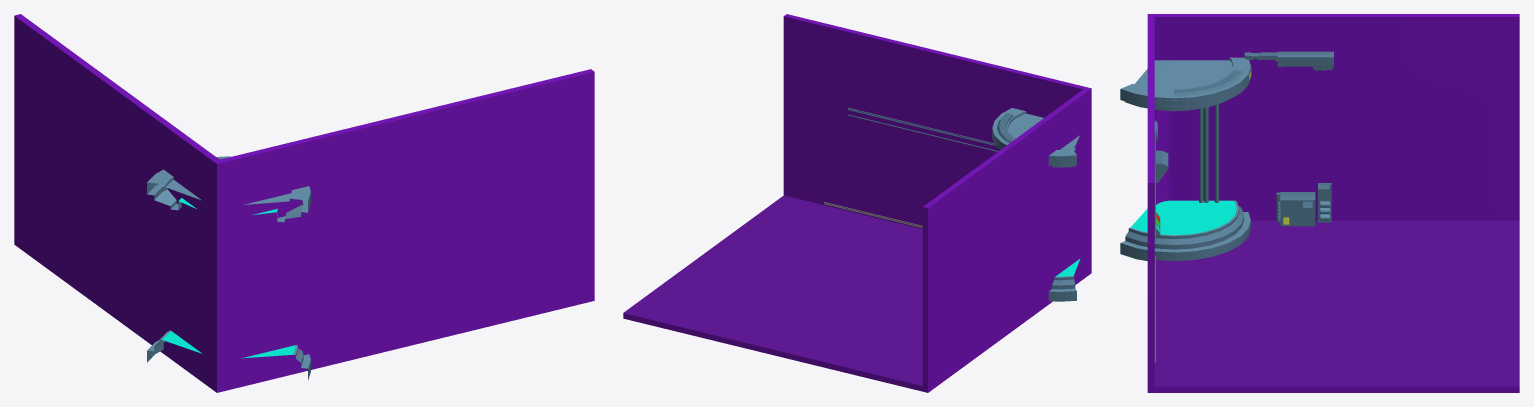
The model's file is Lab.fbx.
The picture shows the model from 3 angles, left to right: view 1: azimuth 30°, elevation 25°; view 2: azimuth 150°, elevation 25°; view 3: azimuth 270°, elevation 25°; orthographic projection. The views are drawn at different scales.
Visible parts, largest first — view 1: polySurface38; view 2: polySurface38; view 3: polySurface38.
Boxes of the visible parts, x1,y1,x2,y2 form: polySurface38: (14, 14, 594, 392); polySurface38: (623, 14, 1091, 392); polySurface38: (1120, 14, 1519, 392).
Size of the model in its own units: 30.44 by 16.5 by 28.43.
